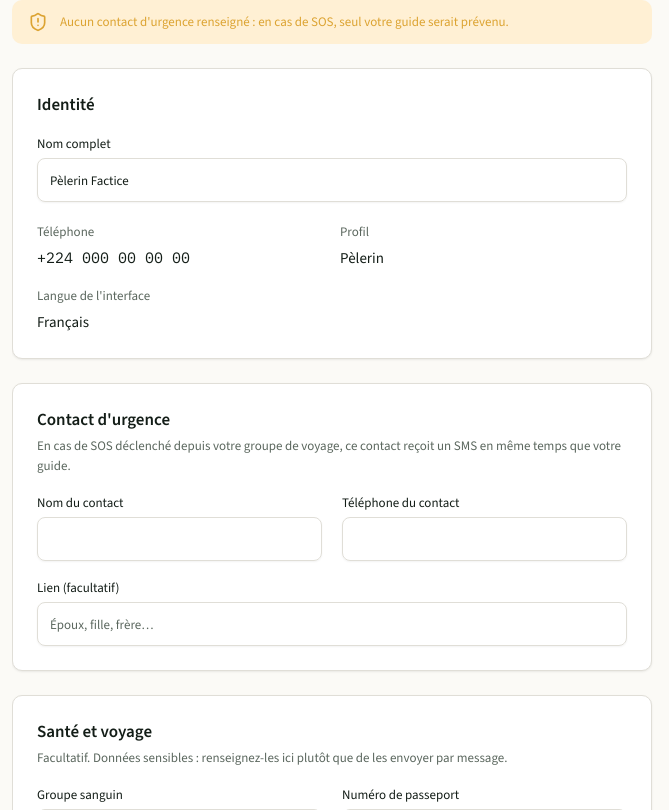
Test case: ProfileForm › refuse un contact d'urgence sans téléphone, sans appeler l'API
Type "Contact Factice" into the field labelled "Nom du contact".
click(180, 539); type("Contact Factice")  # box [37, 517, 322, 561]
(page scrolled)
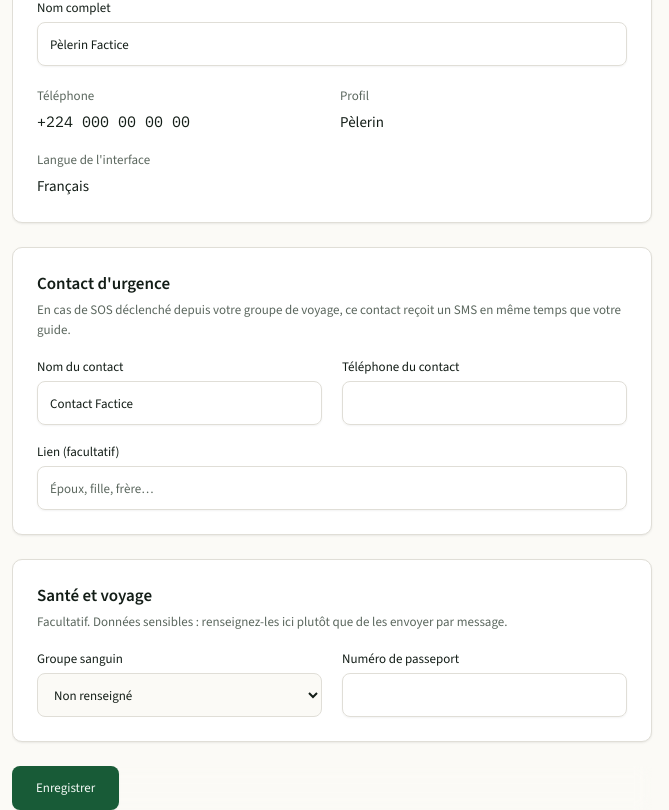
Click the button "Enregistrer".
click(66, 788)  # box [12, 766, 119, 809]
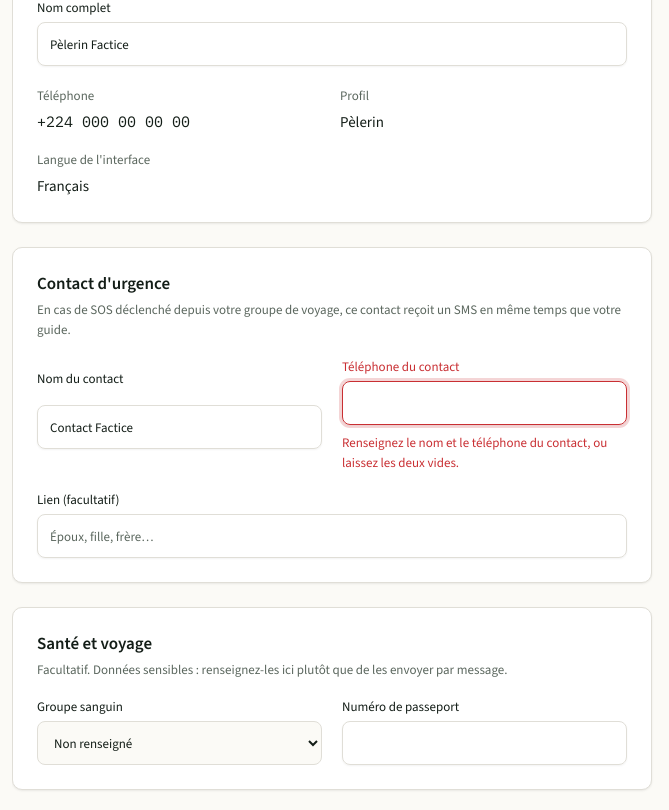
Check: the text "nom et le téléphone du contact" is shown, box [342, 434, 607, 471]
